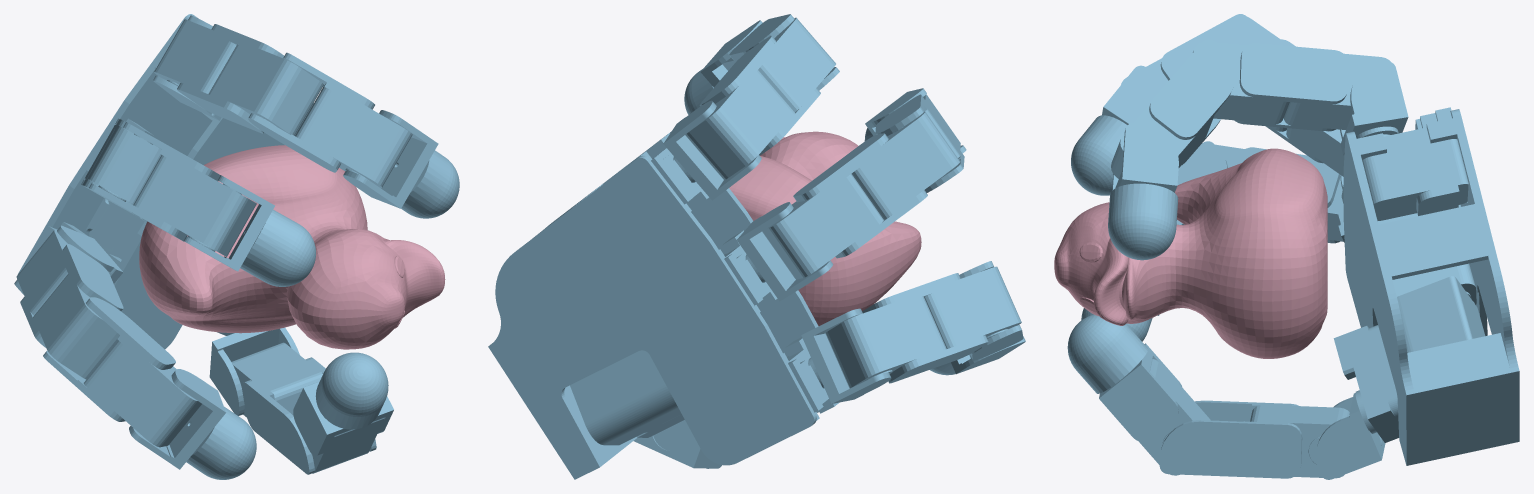
The picture shows the model from 3 angles, left to right: view 1: azimuth 30°, elevation 25°; view 2: azimuth 150°, elevation 25°; view 3: azimuth 270°, elevation 25°; orthographic projection.
Visible parts, largest first — view 1: world, rubber_duck.stl; view 2: world, rubber_duck.stl; view 3: world, rubber_duck.stl.
Part boxes in pixels (x1,y1,x2,y2): world: (14, 14, 459, 479); rubber_duck.stl: (139, 145, 445, 349); world: (488, 14, 1025, 479); rubber_duck.stl: (729, 131, 921, 325); world: (1067, 14, 1519, 479); rubber_duck.stl: (1054, 148, 1327, 358).
Size of the model in its own units: 0.1657 by 0.1609 by 0.1632.
